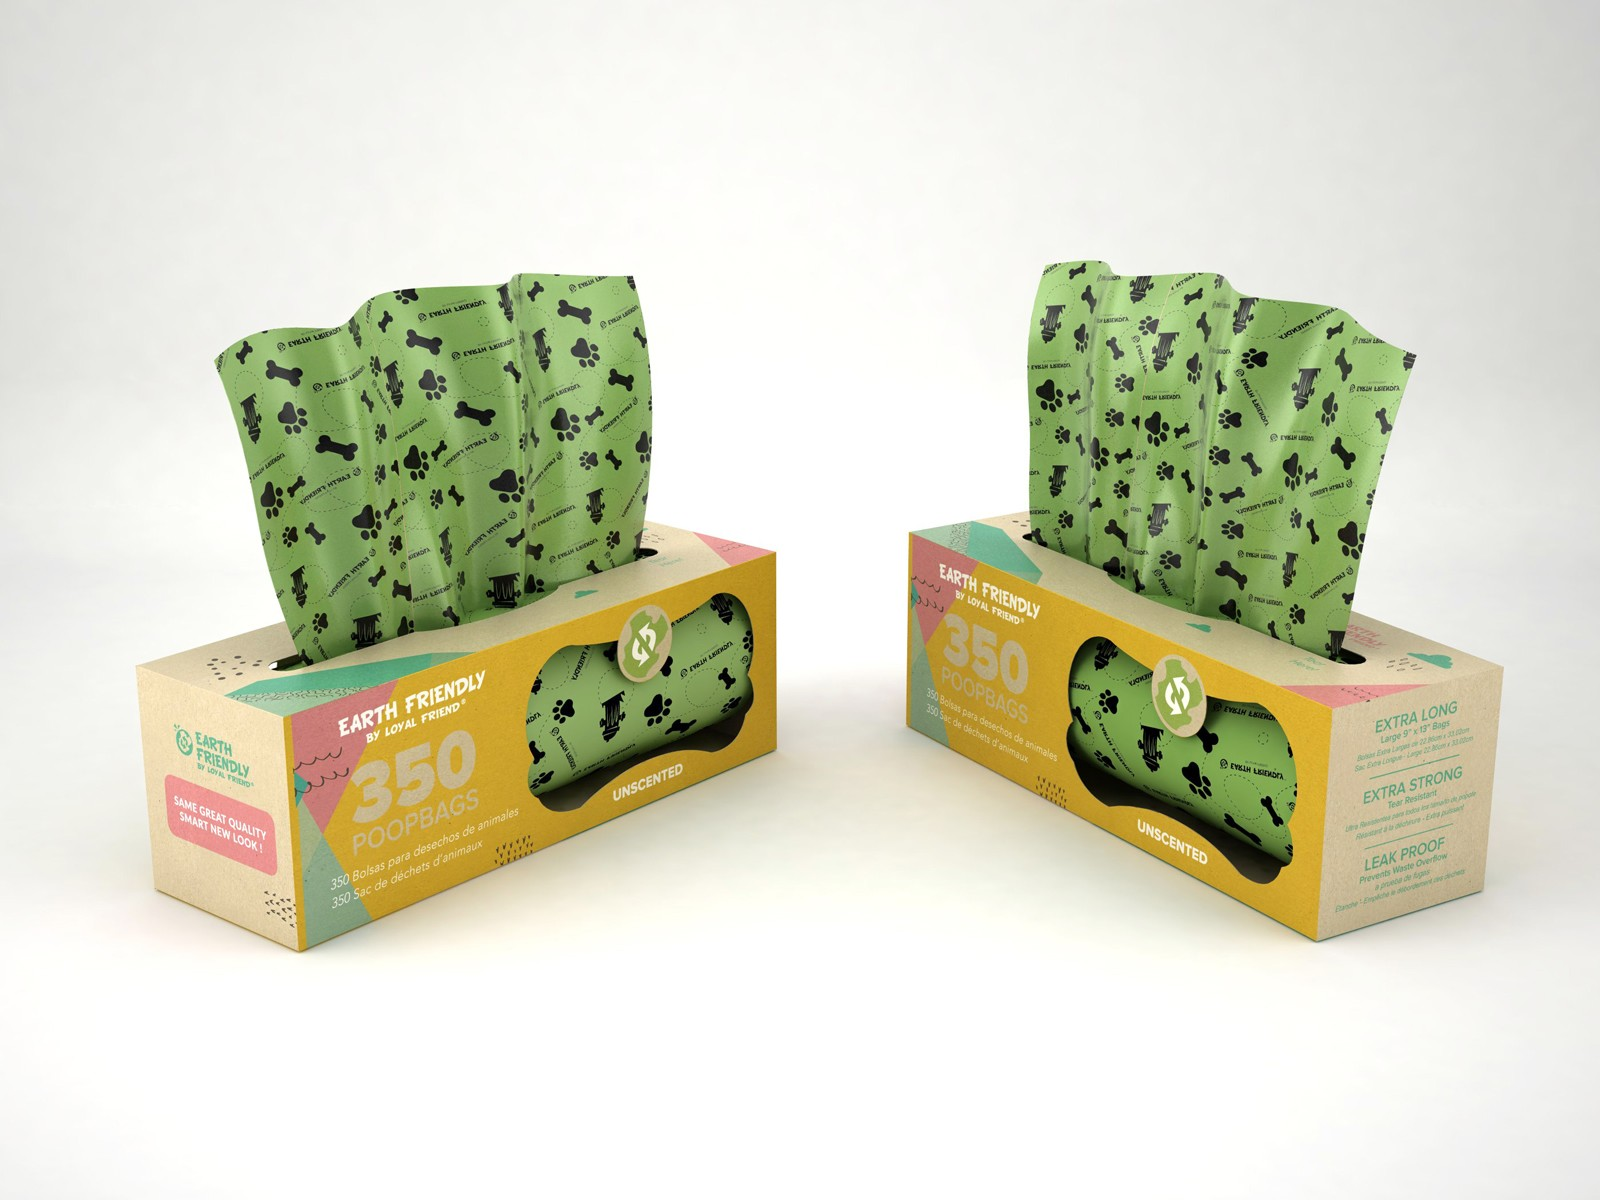Tissue: (208, 263, 661, 668), (1009, 260, 1417, 668)
